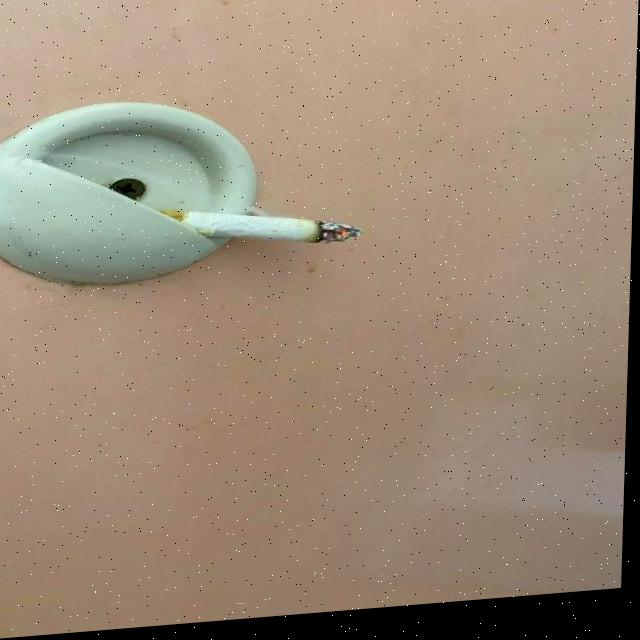cigarette: (159, 203, 366, 264)
